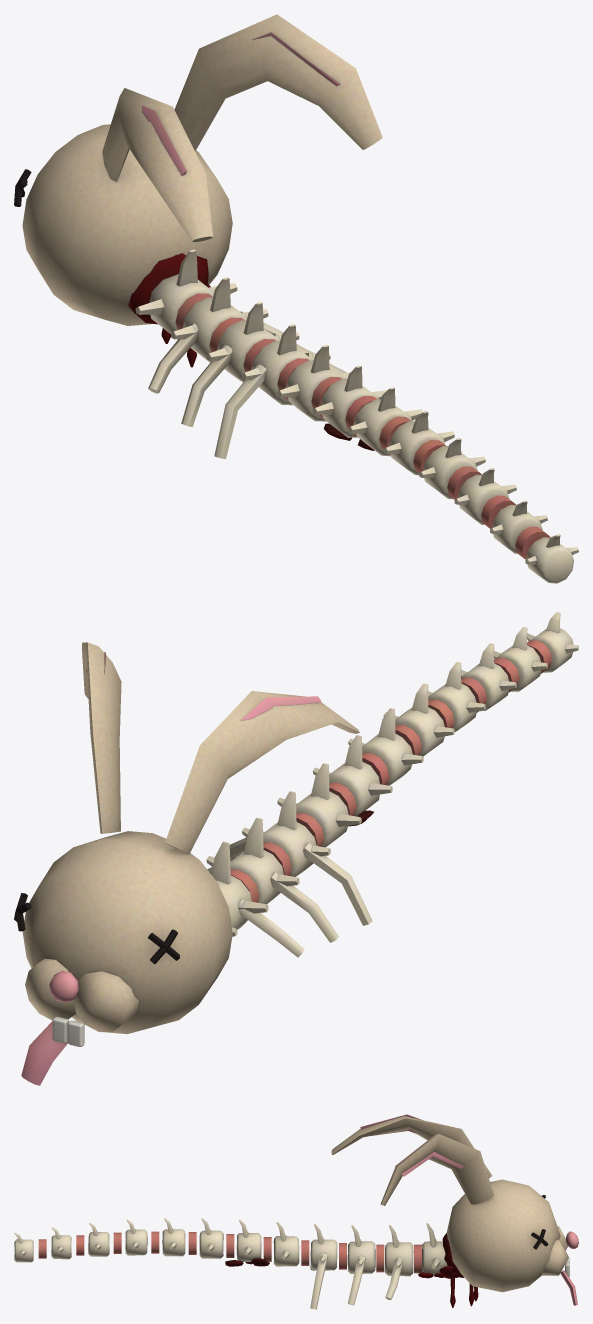
Rendered from melee_bunny_spine.glb.
3 renders of one model, top to bottom at view 1: azimuth 30°, elevation 25°; view 2: azimuth 150°, elevation 25°; view 3: azimuth 270°, elevation 25°, orthographic. The views are drawn at different scales.
Parts seen in each view (by area): view 1: melee_bunny_spine; view 2: melee_bunny_spine; view 3: melee_bunny_spine.
Part boxes in pixels (x1=…): melee_bunny_spine: x1=14, y1=14, x2=578, y2=583; melee_bunny_spine: x1=14, y1=612, x2=578, y2=1085; melee_bunny_spine: x1=14, y1=1114, x2=578, y2=1309.
Bounding box in the file's own units: 0.1175 × 0.1608 × 0.4245.
1 material, 1 textured.
